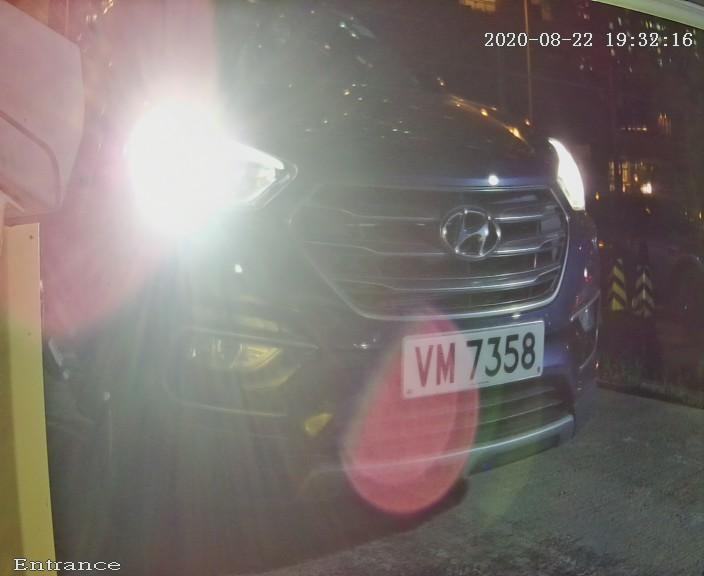Car: (1, 6, 661, 548)
License Plate: (384, 294, 573, 420)
